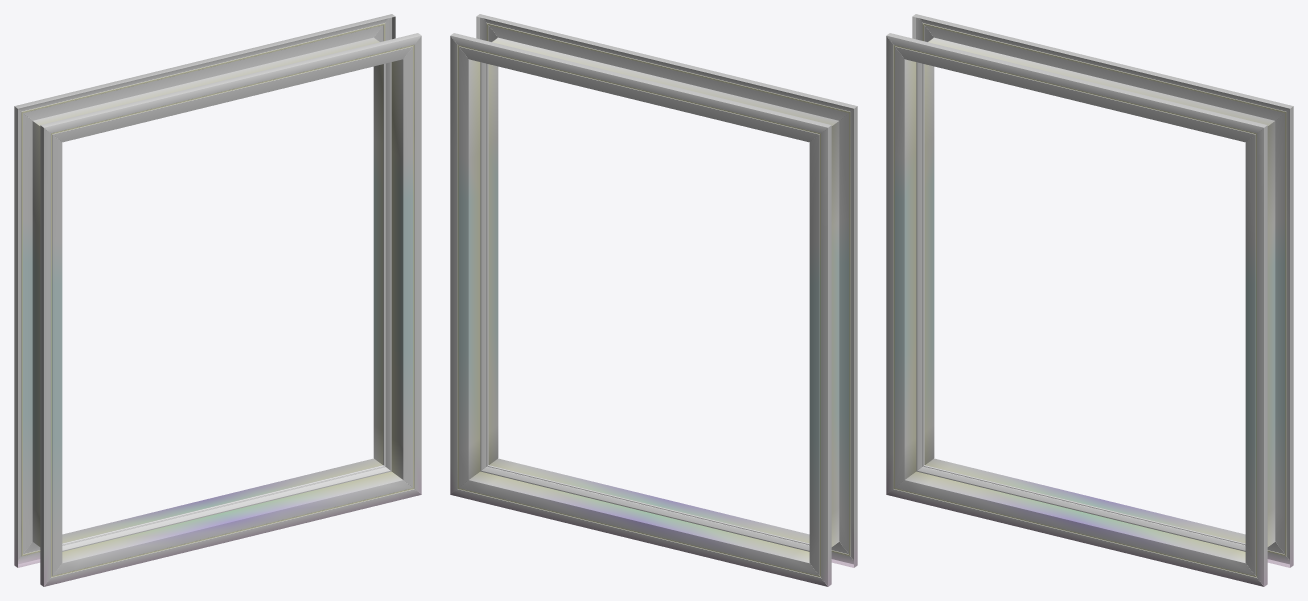
File: Kit_WindowFrame_Alu.fbx
3 views of the same model, side by side, from view 1: azimuth 30°, elevation 25°; view 2: azimuth 150°, elevation 25°; view 3: azimuth 330°, elevation 25° (orthographic).
Visible parts, largest first — view 1: Kit_WindowFrame_Alu_LOD0; view 2: Kit_WindowFrame_Alu_LOD0; view 3: Kit_WindowFrame_Alu_LOD0.
Boxes of the visible parts, box(x1,y1,x2,y2) form: Kit_WindowFrame_Alu_LOD0: box(14, 14, 421, 586); Kit_WindowFrame_Alu_LOD0: box(450, 14, 857, 586); Kit_WindowFrame_Alu_LOD0: box(886, 14, 1293, 586).
Size of what is drawn, in the model's own units: 1.55 by 1.8 by 0.21.
